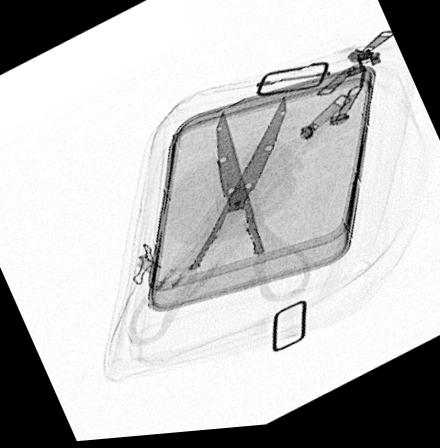Scissors: (127, 100, 312, 349)
